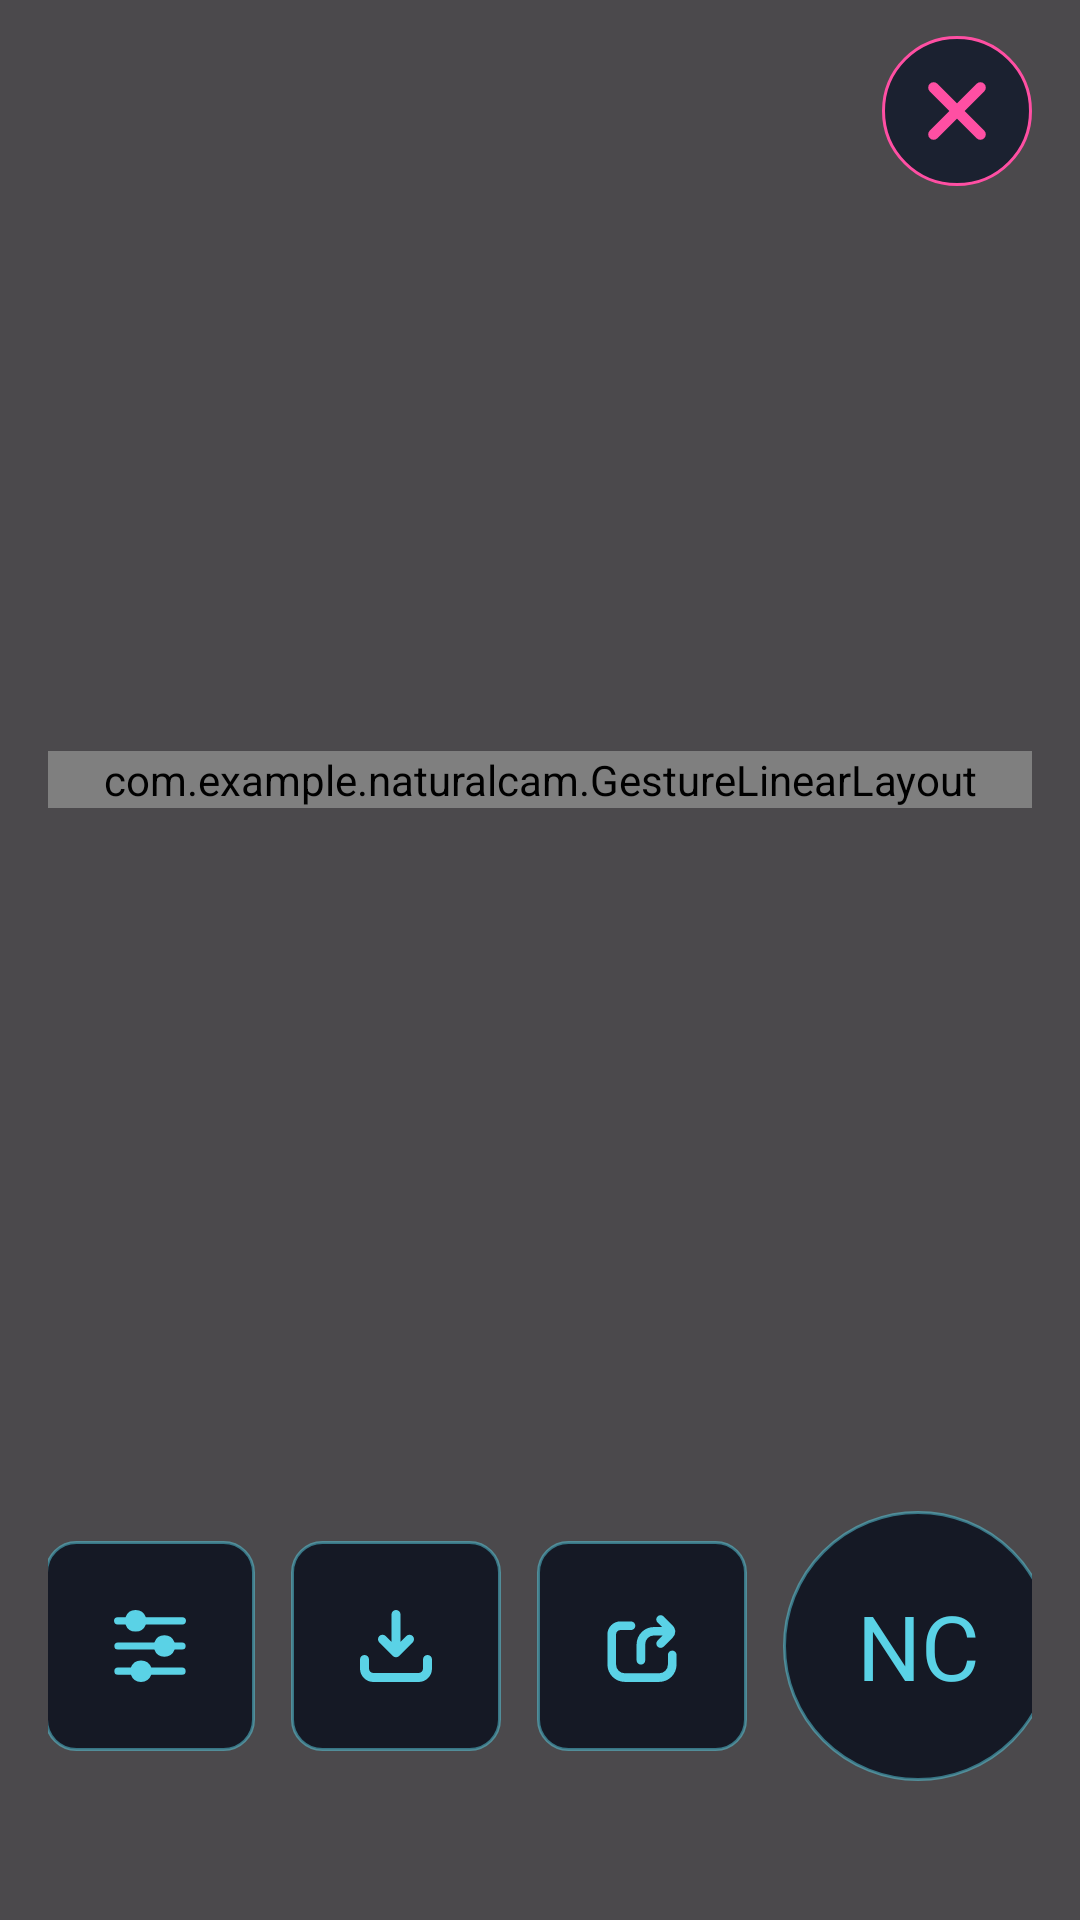

Icons on this 1080w x 1920h Android screen, each with its box as (x1, y1, x2, y2):
Chiudi visualizzatore: (882, 36, 1032, 186)
Condividi immagine: (537, 1541, 747, 1751)
Regola immagine: (48, 1541, 255, 1751)
Salva immagine: (291, 1541, 501, 1751)
